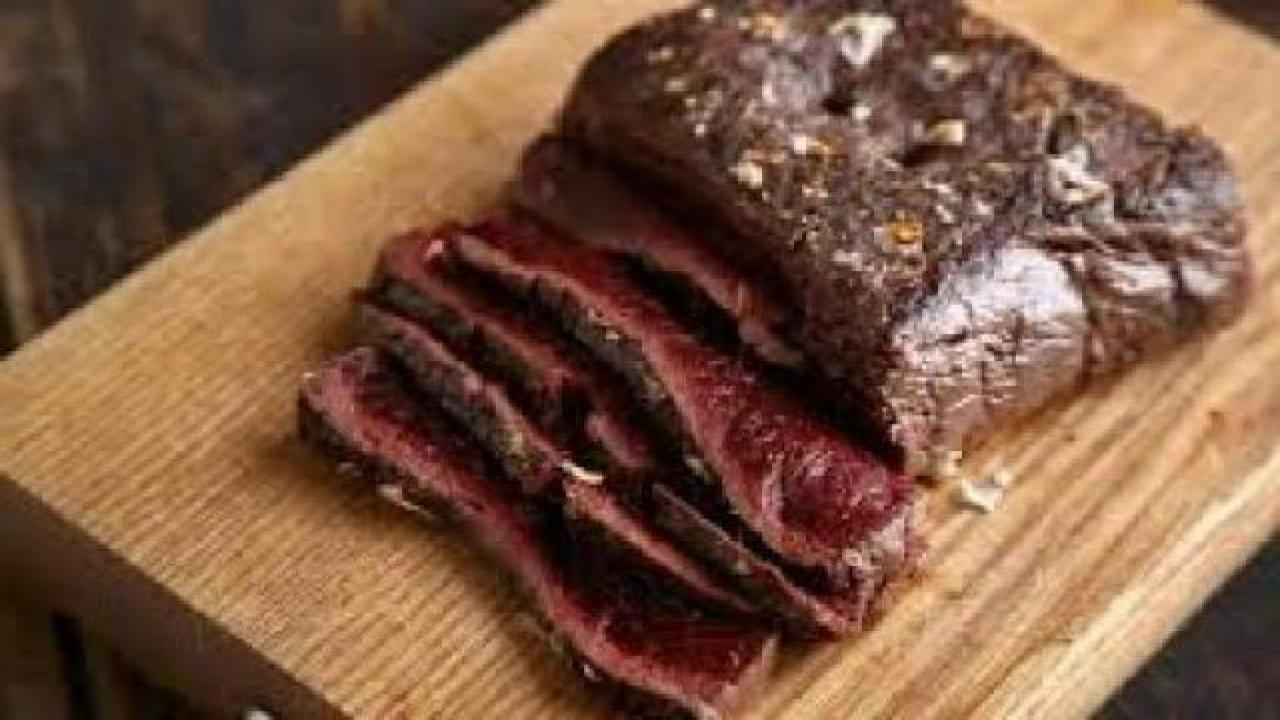Carne: (292, 193, 946, 691), (598, 0, 1254, 402)
